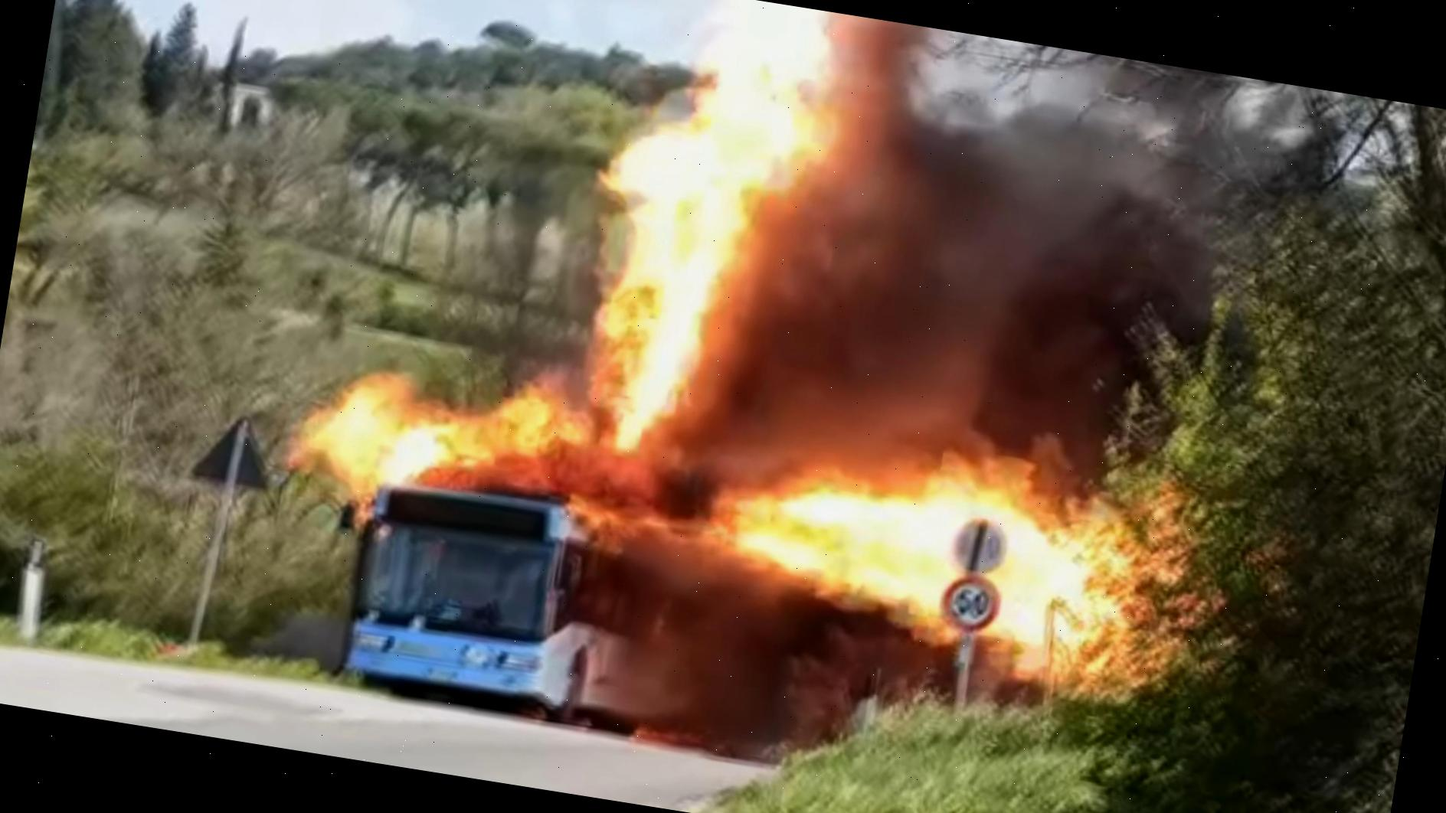fire: (702, 454, 1308, 697), (541, 0, 806, 464), (245, 358, 559, 524)
smoke: (740, 111, 1272, 508), (603, 541, 1019, 804)
